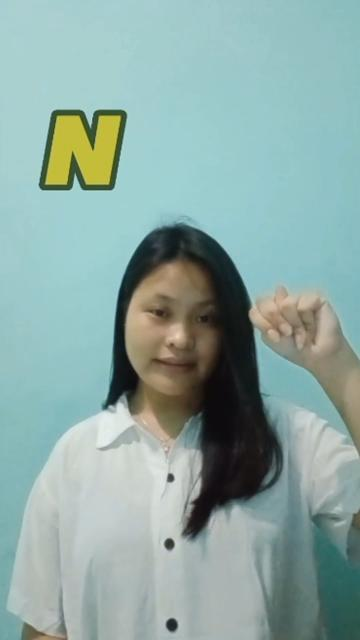N: (246, 280, 346, 364)
